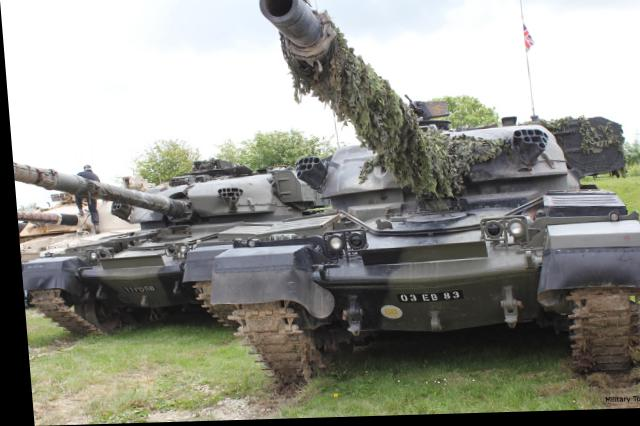tank: (213, 120, 640, 390), (18, 226, 82, 326)
